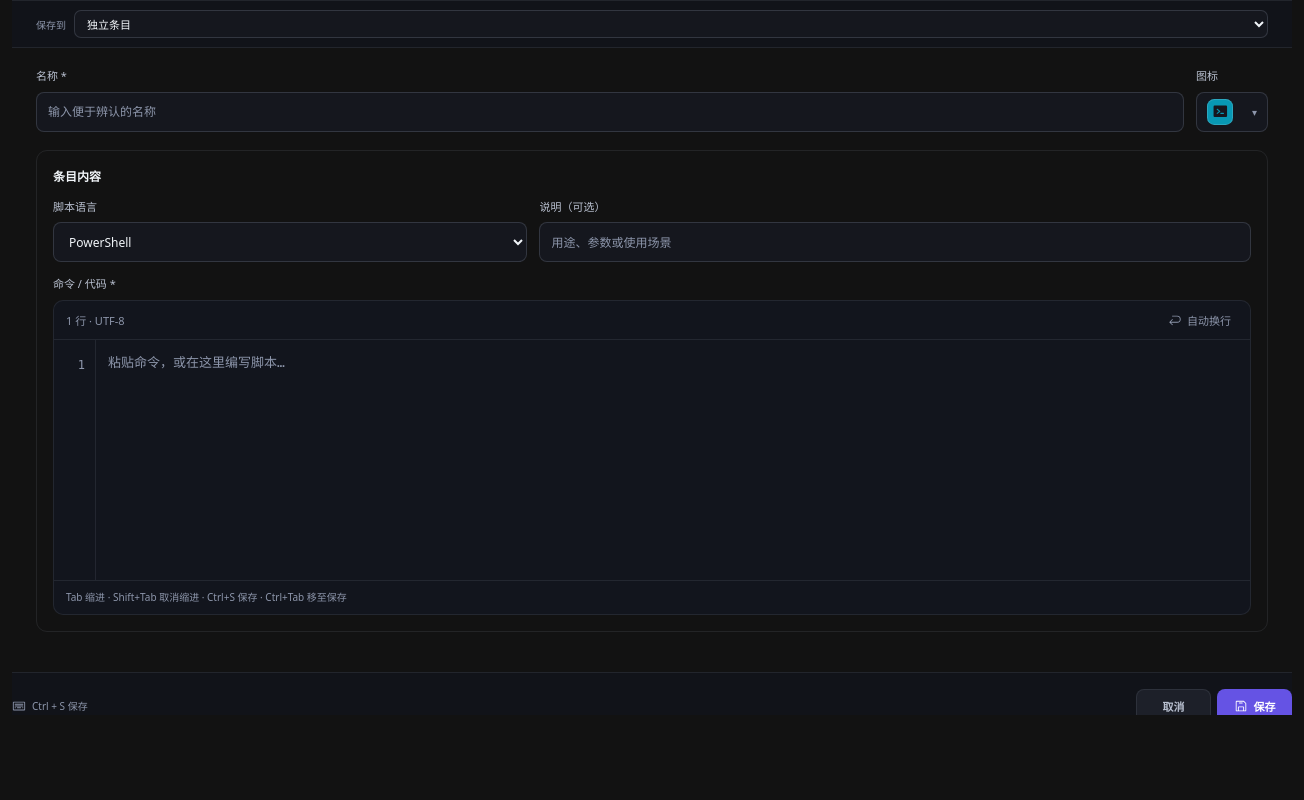
Scenario: ItemForm validation › a missing target › asks for code in a command, in the editor itself
Type "Build" into the field with test id "item-name-input" at coordinates (610, 112), box [36,92,1184,132]
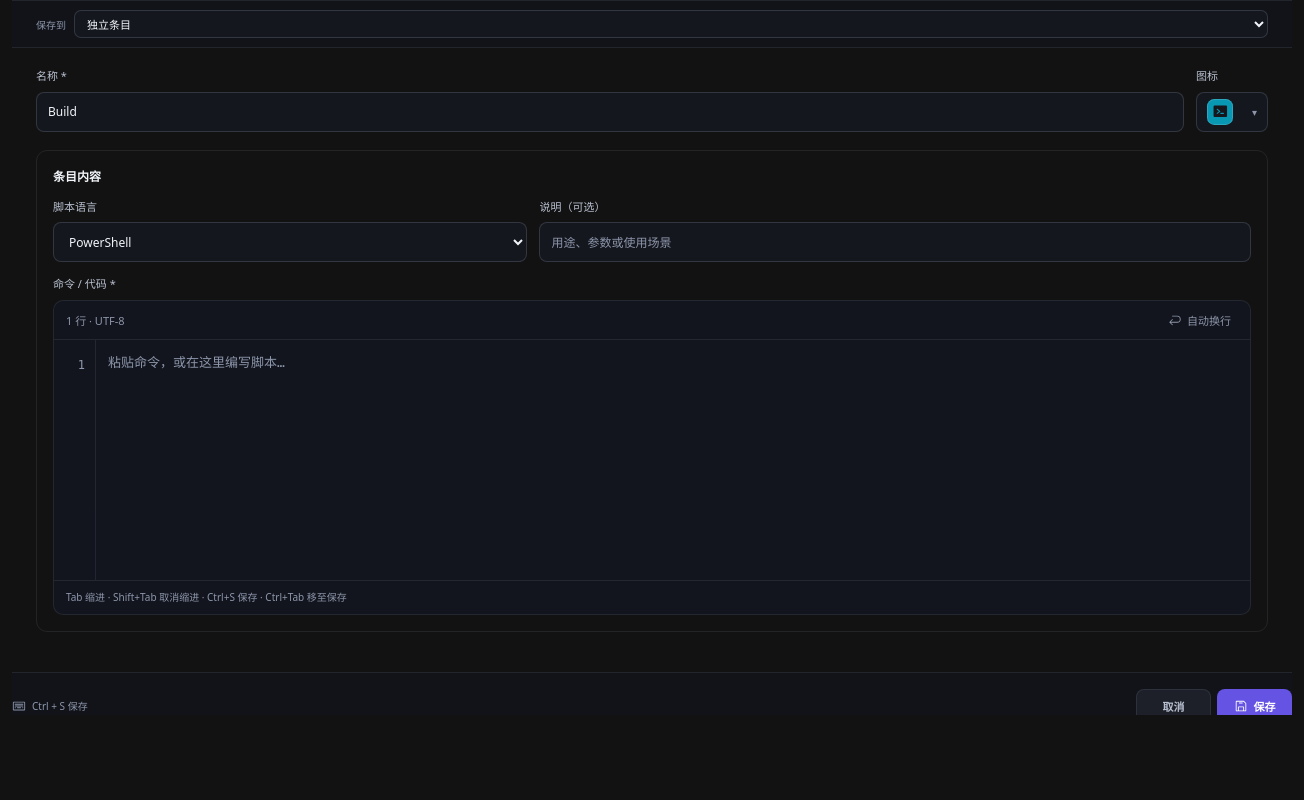
Click the button with test id "item-save" at coordinates (1254, 706), box [1217,688,1292,722]
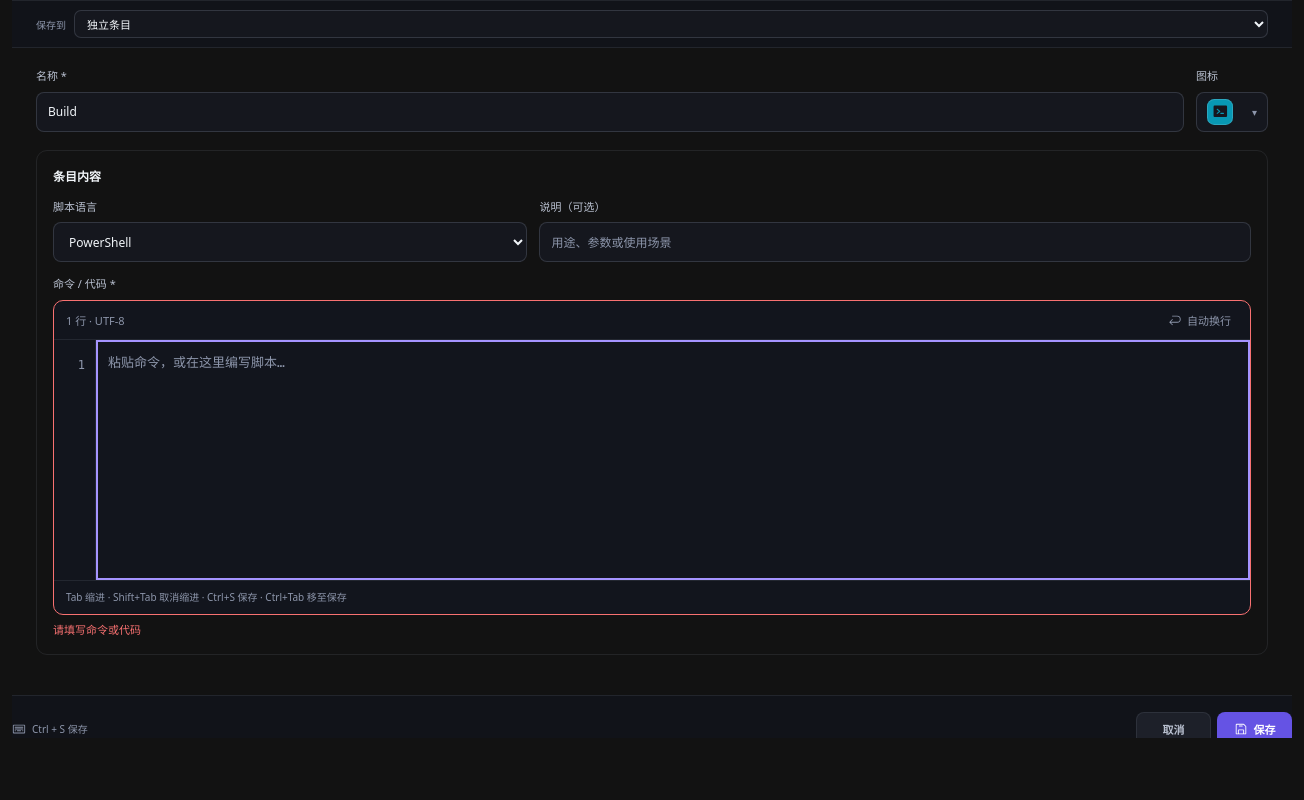
expect the message reads "请填写命令或代码": met, box [53,622,141,636]
Type "git status" into the text box with test id "command-code-input" at coordinates (673, 460), box [96,340,1250,580]
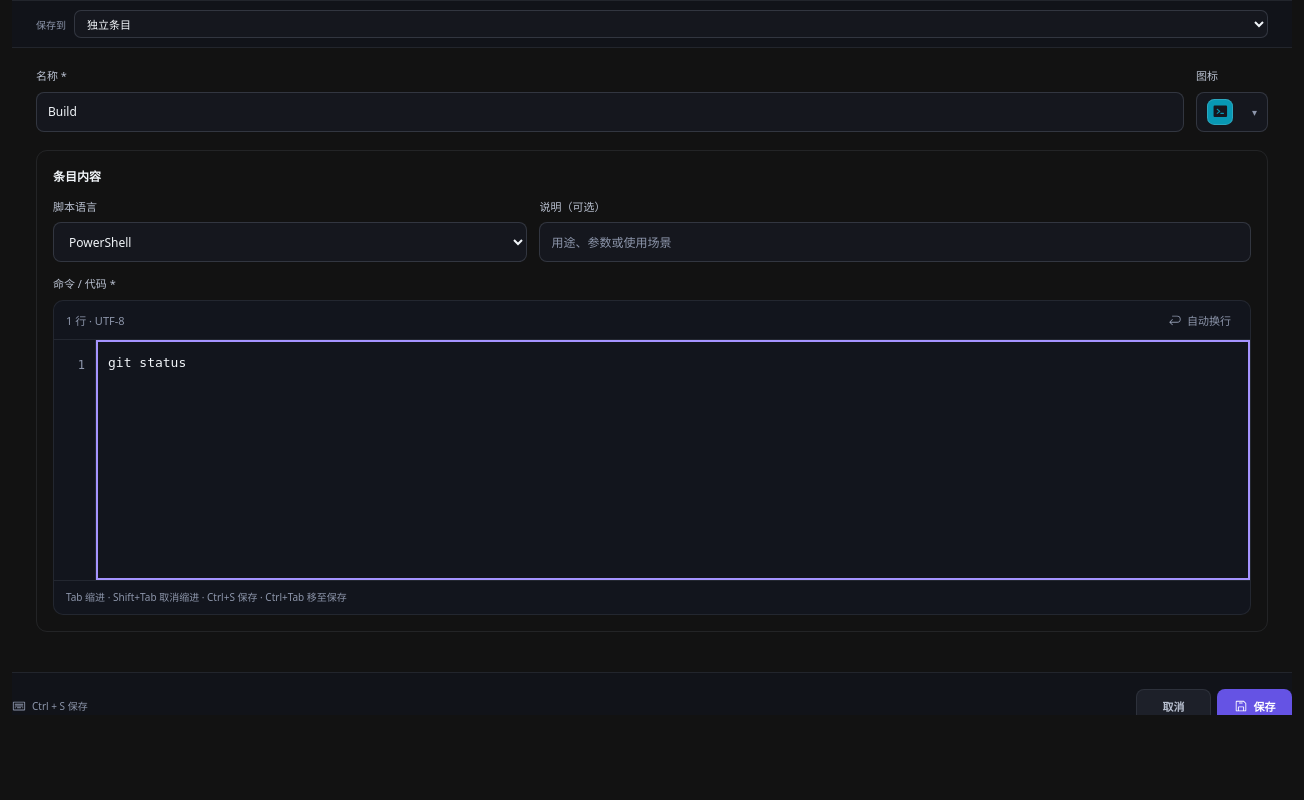
expect the message "请填写命令或代码" is gone: met
